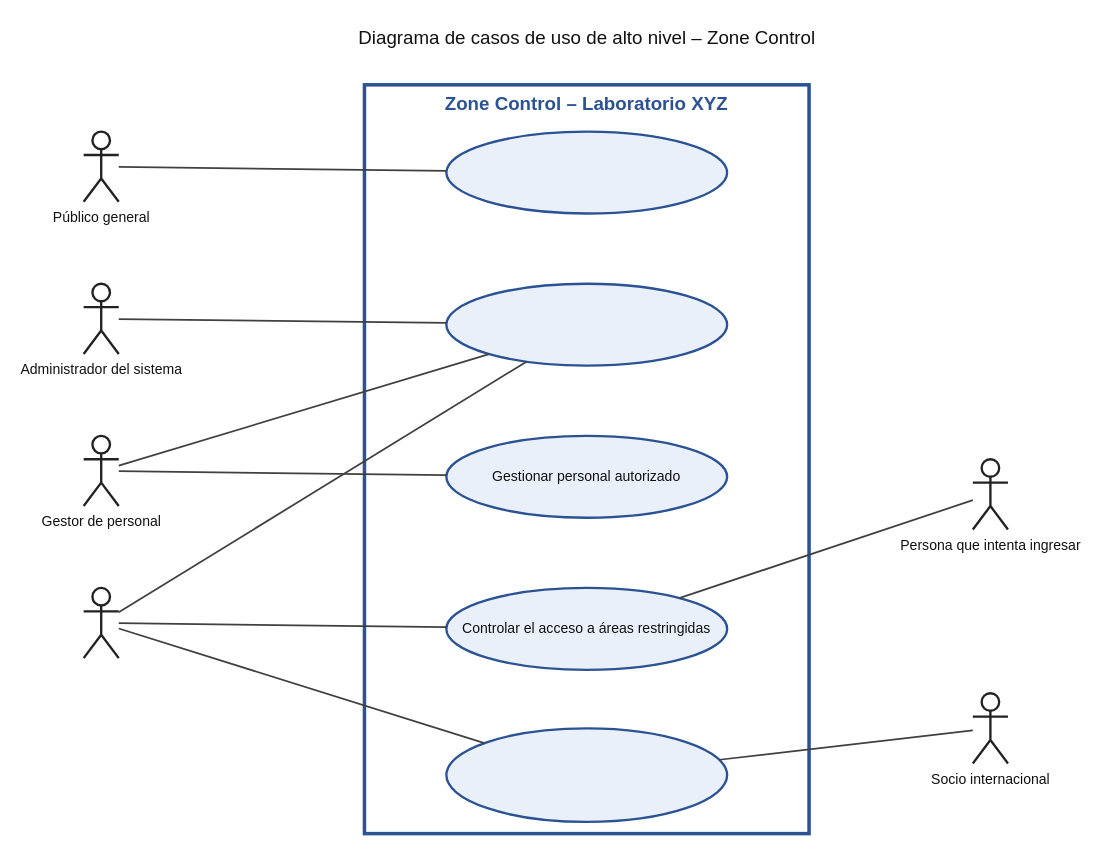
Some shapes in this 1100 by 855 pixel diagram are drawn without their labels. The centre of each missing label's shape, as x and y in pixels:
Auditar la actividad de acceso y generar reportes: pixel 586 775
Consultar información institucional: pixel 586 172
Gestionar autenticación y roles: pixel 586 324
Supervisor/Auditor: pixel 100 622
